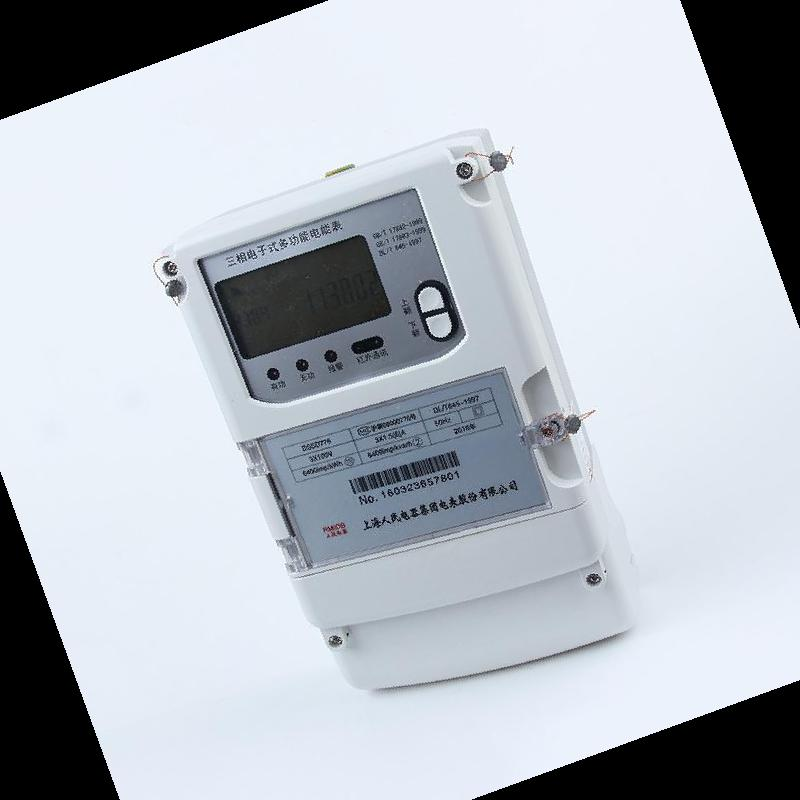digital: (157, 144, 602, 627)
